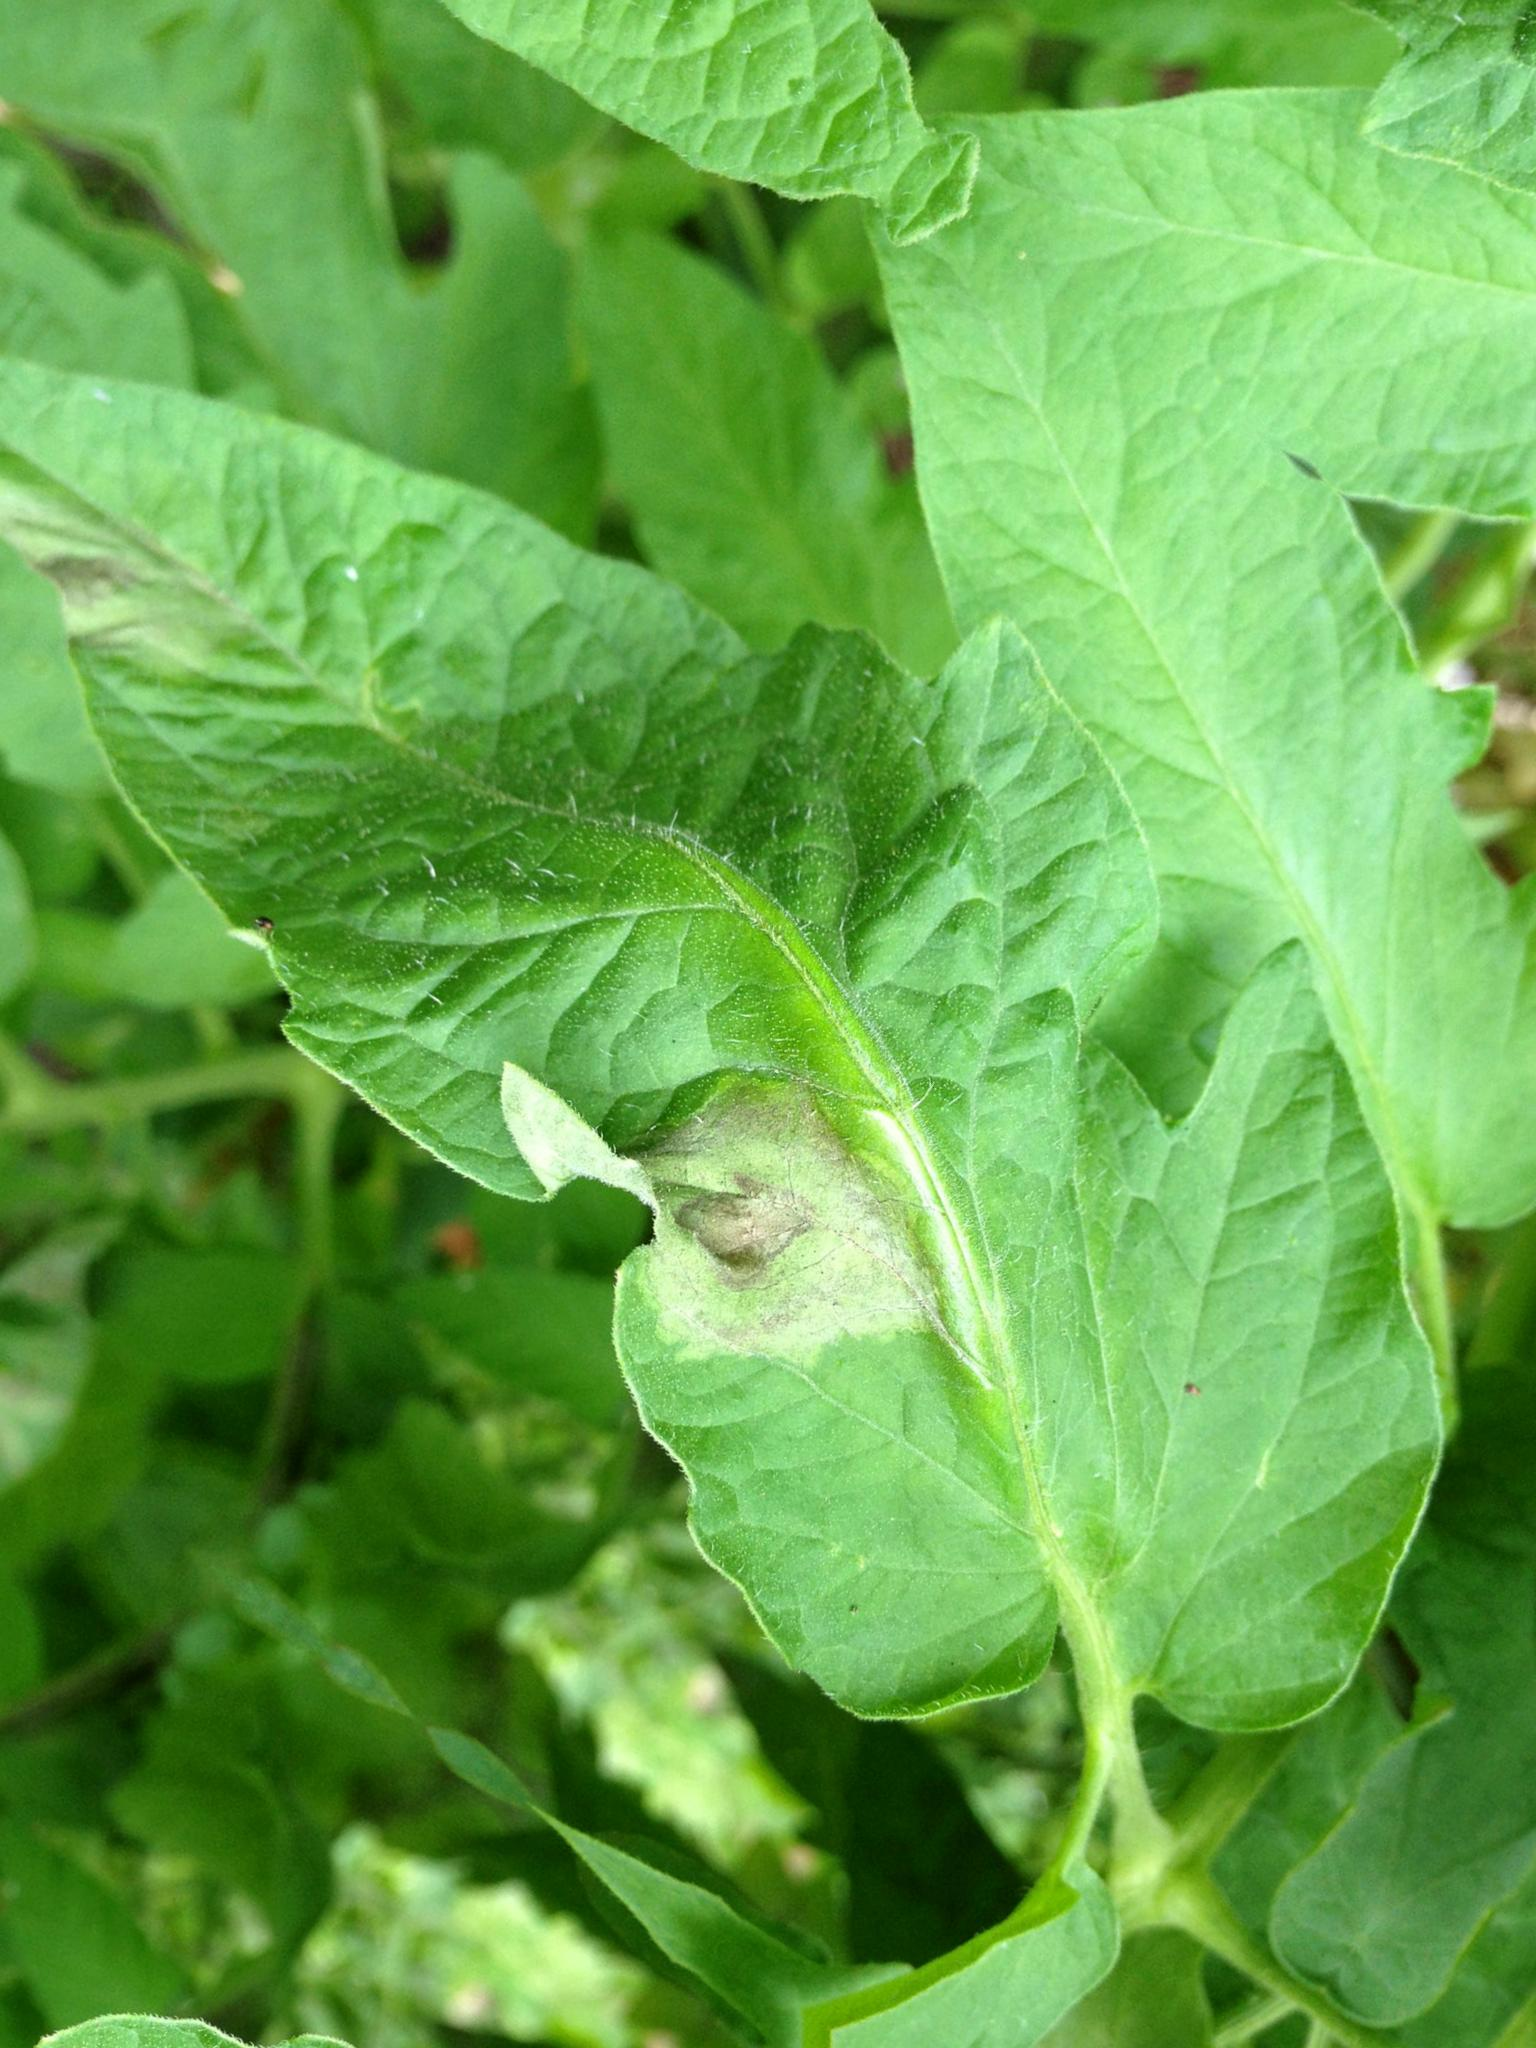Tomato leaf late blight: (0, 70, 1536, 1968)
